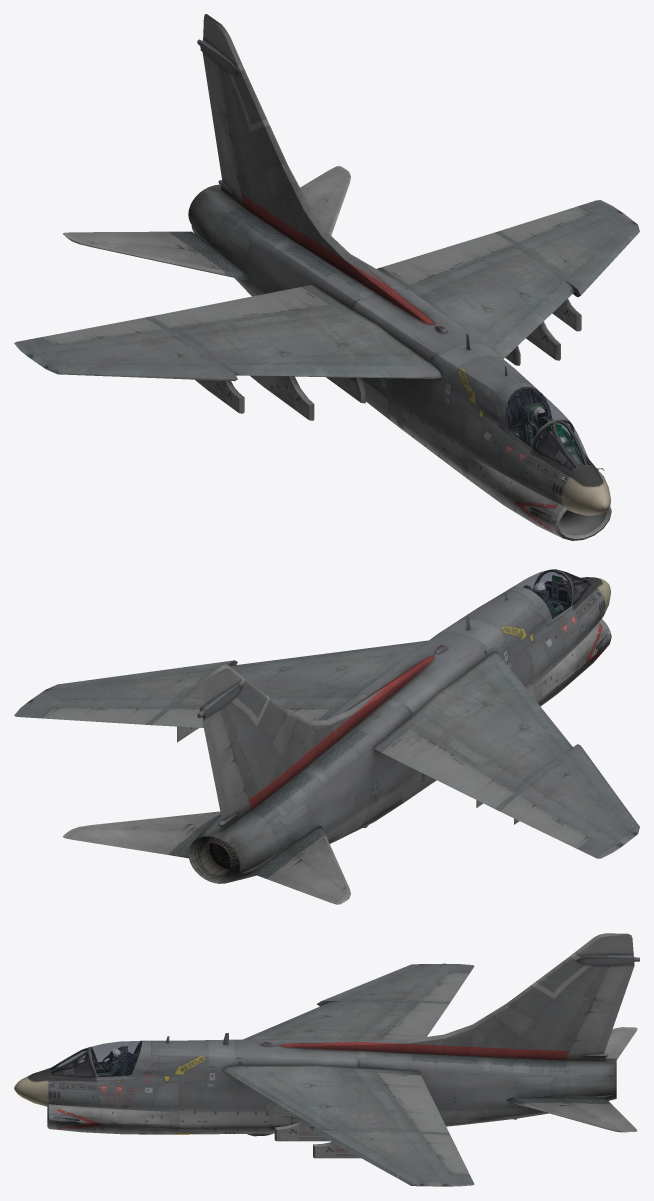
The model's file is A-7_Corsair_II.dat.obj.
3 renders of one model, top to bottom at view 1: azimuth 30°, elevation 25°; view 2: azimuth 150°, elevation 25°; view 3: azimuth 270°, elevation 25°, orthographic. The views are drawn at different scales.
Visible parts, largest first — view 1: A-7_LOD0_default, A-7_ElevatorR01_default, A-7_FlapR01_default, A-7_FlapL01_default, A-7_VoletR02_default, A-7_VoletR01_default, A-7_RudderL01_default, A-7_Glass_Canopy01_default, A-7_ElevatorL01_default, A-7_Glass_default, A-7_VoletL02_default, A-7_AileronR01_default (+3 smaller); view 2: A-7_LOD0_default, A-7_ElevatorR01_default, A-7_ElevatorL01_default, A-7_FlapR01_default, A-7_RudderL01_default, A-7_AileronR01_default, A-7_AileronL01_default, A-7_Glass_Canopy01_default, A-7_VoletR01_default, A-7_EngineL01_default, A-7_FlapL01_default, A-7_VoletL01_default (+4 smaller); view 3: A-7_LOD0_default, A-7_RudderL01_default, A-7_ElevatorL01_default, A-7_FlapL01_default, A-7_Glass_Canopy01_default, A-7_FlapR01_default, A-7_VoletL02_default, A-7_VoletL01_default, A-7_AileronL01_default, A-7_Canopy01_default, A-7_AileronR01_default, A-7_Glass_default (+4 smaller).
Part boxes in pixels (<box>): A-7_LOD0_default: <box>14,14,639,540</box>; A-7_ElevatorR01_default: <box>63,231,250,280</box>; A-7_FlapR01_default: <box>152,287,329,328</box>; A-7_FlapL01_default: <box>382,232,513,285</box>; A-7_VoletR02_default: <box>223,364,424,378</box>; A-7_VoletR01_default: <box>50,364,228,380</box>; A-7_RudderL01_default: <box>202,53,242,198</box>; A-7_Glass_Canopy01_default: <box>506,387,569,447</box>; A-7_ElevatorL01_default: <box>300,166,350,235</box>; A-7_Glass_default: <box>534,421,591,469</box>; A-7_VoletL02_default: <box>496,281,574,357</box>; A-7_AileronR01_default: <box>42,317,163,344</box>; A-7_LOD0_default: <box>14,569,639,883</box>; A-7_ElevatorR01_default: <box>251,826,350,904</box>; A-7_ElevatorL01_default: <box>63,811,220,858</box>; A-7_FlapR01_default: <box>381,728,513,808</box>; A-7_RudderL01_default: <box>202,709,248,820</box>; A-7_AileronR01_default: <box>499,795,590,849</box>; A-7_AileronL01_default: <box>42,707,163,724</box>; A-7_Glass_Canopy01_default: <box>512,570,572,618</box>; A-7_VoletR01_default: <box>570,748,639,831</box>; A-7_EngineL01_default: <box>200,836,239,875</box>; A-7_FlapL01_default: <box>152,708,329,727</box>; A-7_VoletL01_default: <box>50,661,225,690</box>; A-7_LOD0_default: <box>14,933,639,1186</box>; A-7_RudderL01_default: <box>568,965,634,1054</box>; A-7_ElevatorL01_default: <box>506,1097,637,1132</box>; A-7_FlapL01_default: <box>377,1073,448,1132</box>; A-7_Glass_Canopy01_default: <box>90,1040,141,1076</box>; A-7_FlapR01_default: <box>379,1002,448,1040</box>; A-7_VoletL02_default: <box>231,1071,339,1129</box>; A-7_VoletL01_default: <box>321,1132,422,1183</box>; A-7_AileronL01_default: <box>421,1133,469,1174</box>; A-7_Canopy01_default: <box>89,1040,157,1079</box>; A-7_AileronR01_default: <box>421,972,469,1002</box>; A-7_Glass_default: <box>51,1049,94,1077</box>.
Bounding box in the file's own units: 11.64 × 4.91 × 13.82.
